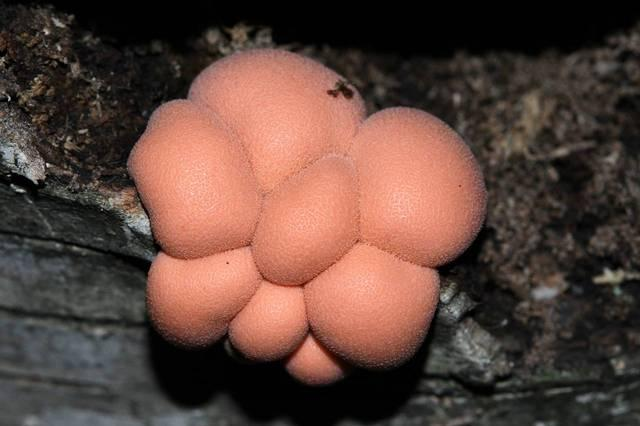poisonous_mushroom: (125, 46, 489, 386), (348, 105, 488, 267), (125, 97, 263, 258), (302, 242, 441, 370), (249, 151, 361, 286)
